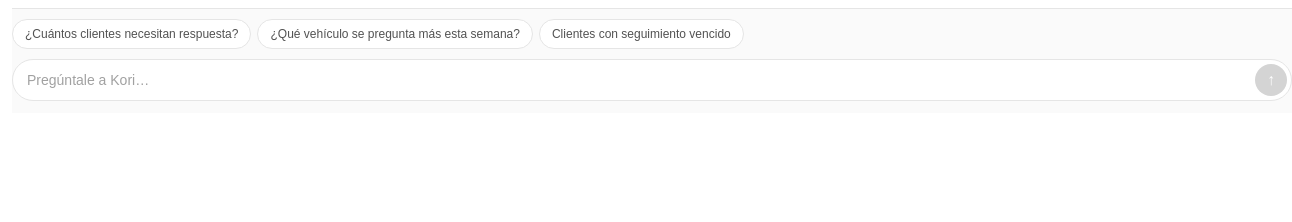
Test case: KoriChatDock › switches to follow-up suggestions after the first question
Click the button "¿Cuántos clientes necesitan respuesta?": [132, 34] box x1=12 y1=19 x2=252 y2=49
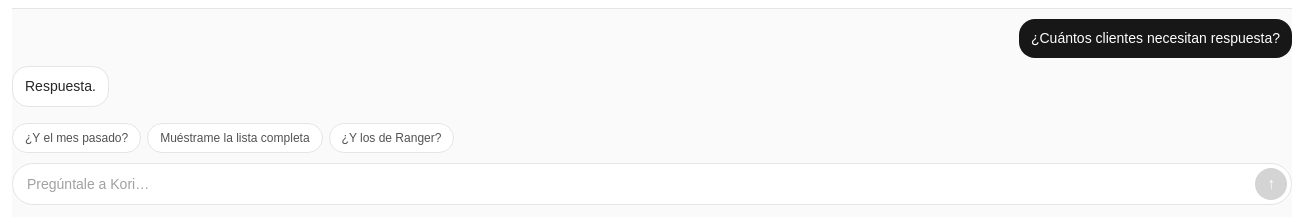
Result: the text "Respuesta." is shown at x1=12 y1=66 x2=109 y2=107
Result: the button "¿Y el mes pasado?" is shown at x1=12 y1=122 x2=141 y2=152
Result: the button "¿Qué vehículo se pregunta más esta semana?" is gone
